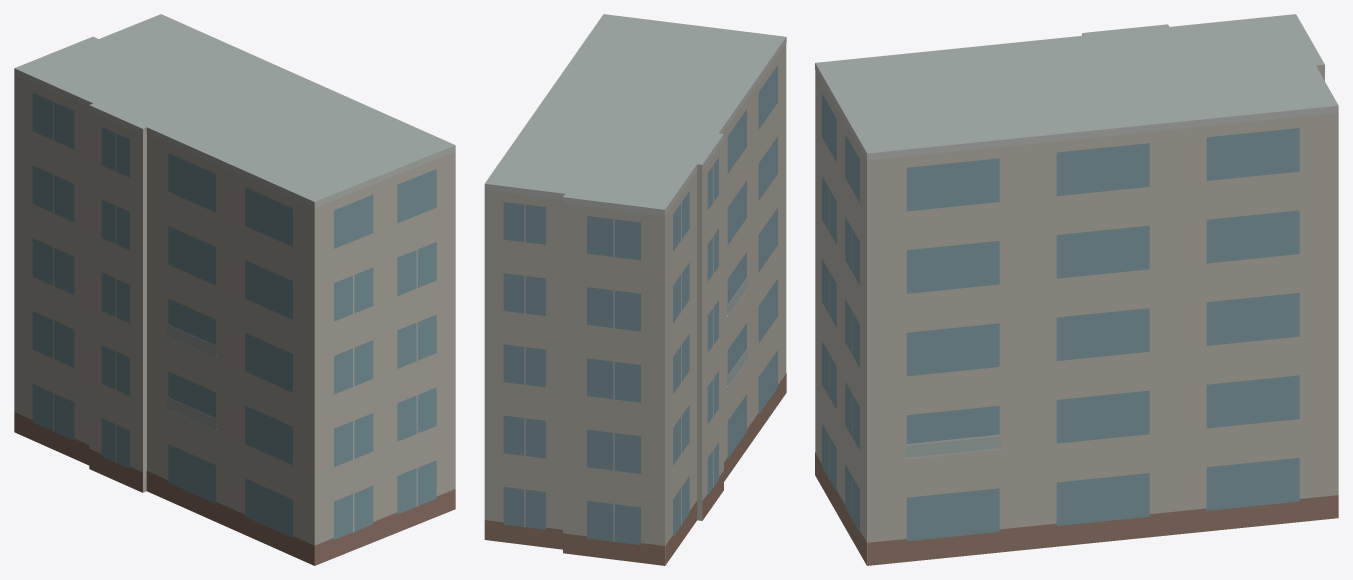
The model's file is survey-upis-32744971.glb.
3 renders of one model, left to right at view 1: azimuth 30°, elevation 25°; view 2: azimuth 150°, elevation 25°; view 3: azimuth 270°, elevation 25°, orthographic. The views are drawn at different scales.
Visible parts, largest first — view 1: survey-upis-32744971.tmp; view 2: survey-upis-32744971.tmp; view 3: survey-upis-32744971.tmp.
Boxes of the visible parts, x1,y1,x2,y2 form: survey-upis-32744971.tmp: (14,14,455,565); survey-upis-32744971.tmp: (484,14,786,565); survey-upis-32744971.tmp: (815,14,1338,565).
Bounding box in the file's own units: 10.42 × 14.35 × 16.52.
